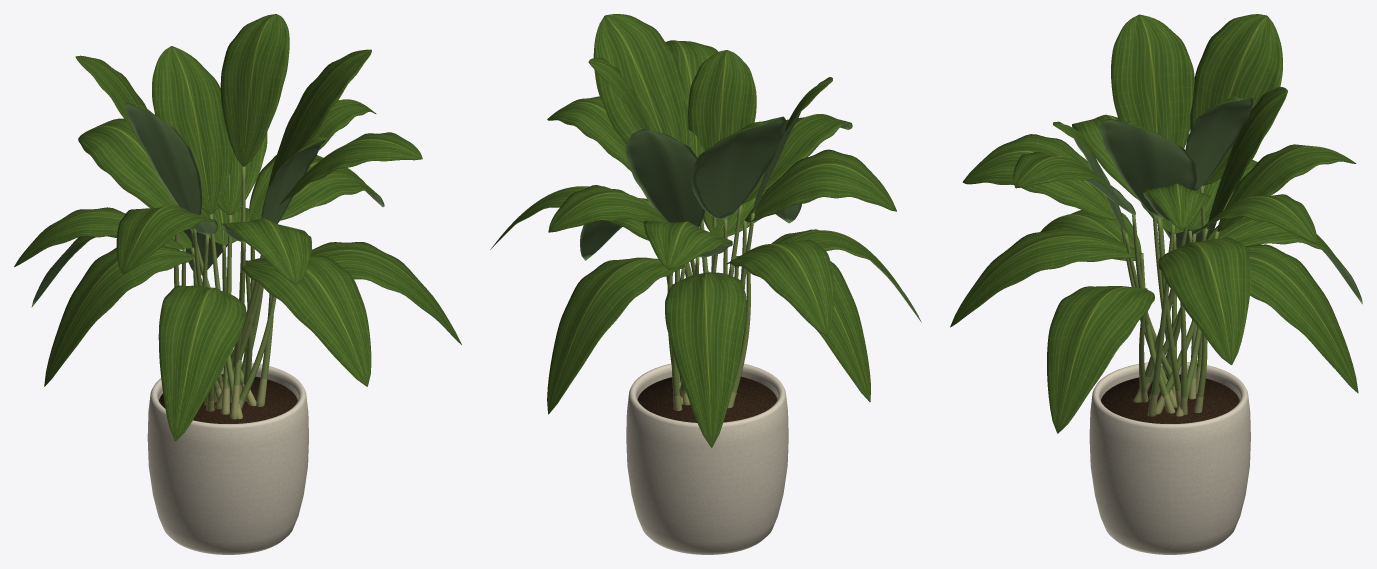
3 views of the same model, side by side, from view 1: azimuth 30°, elevation 25°; view 2: azimuth 150°, elevation 25°; view 3: azimuth 270°, elevation 25° (orthographic).
Visible parts, largest first — view 1: Foliage | twenty curved broad leaves with shaped undersides, Planter | rounded textured ivory ceramic, Petioles | twenty arcing basal stems, Soil | inset planting surface, Basal crown | overlapping warm olive sheaths; view 2: Foliage | twenty curved broad leaves with shaped undersides, Planter | rounded textured ivory ceramic, Soil | inset planting surface, Petioles | twenty arcing basal stems; view 3: Foliage | twenty curved broad leaves with shaped undersides, Planter | rounded textured ivory ceramic, Petioles | twenty arcing basal stems, Soil | inset planting surface, Basal crown | overlapping warm olive sheaths.
Part boxes in pixels (box(x1,y1,x2,y2)): Foliage | twenty curved broad leaves with shaped undersides: box(14, 14, 461, 440); Planter | rounded textured ivory ceramic: box(147, 361, 308, 554); Petioles | twenty arcing basal stems: box(174, 166, 276, 401); Soil | inset planting surface: box(159, 374, 297, 423); Basal crown | overlapping warm olive sheaths: box(204, 373, 267, 419); Foliage | twenty curved broad leaves with shaped undersides: box(490, 14, 921, 447); Planter | rounded textured ivory ceramic: box(626, 363, 788, 554); Soil | inset planting surface: box(637, 375, 777, 422); Petioles | twenty arcing basal stems: box(666, 204, 754, 395); Foliage | twenty curved broad leaves with shaped undersides: box(950, 14, 1362, 433); Planter | rounded textured ivory ceramic: box(1089, 362, 1250, 554); Petioles | twenty arcing basal stems: box(1121, 185, 1218, 397); Soil | inset planting surface: box(1101, 374, 1239, 423); Basal crown | overlapping warm olive sheaths: box(1133, 366, 1203, 416).
Bounding box in the file's own units: 1.23 × 1.55 × 1.23.
6 materials, 3 textured.
